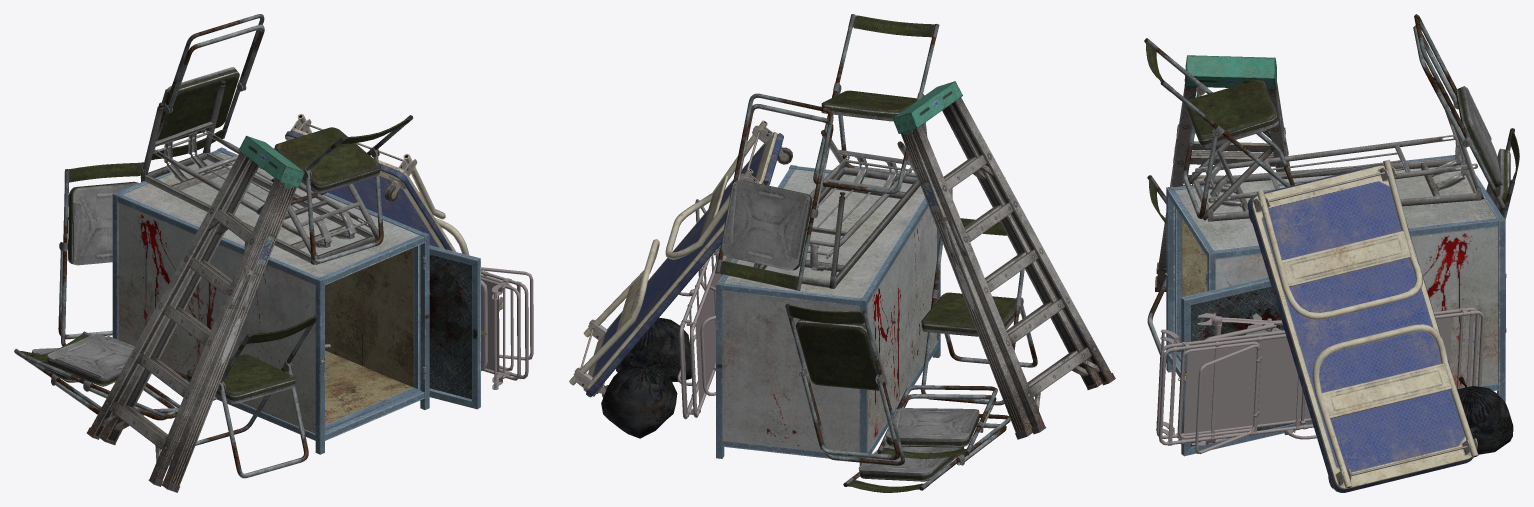
File: sm39_142_underbarricade01a.fbx
3 views of the same model, side by side, from view 1: azimuth 30°, elevation 25°; view 2: azimuth 150°, elevation 25°; view 3: azimuth 270°, elevation 25° (orthographic). The views are drawn at different scales.
Visible parts, largest first — view 1: LOD_1_Group_0_Sub_3__sm30_068_PoliceKennel01A_B_Mat, LOD_1_Group_0_Sub_1__sm30_056_FoldingChair01A_A_Mat, LOD_1_Group_0_Sub_2__sm21_027_Foldingladder01A_A_Mat, LOD_1_Group_0_Sub_4__sm30_004_FoldingTable02A_A_Mat, LOD_1_Group_1_Sub_1__sm30_068_PoliceKennel01A_B_Mat, LOD_1_Group_9_Sub_1__sm30_065_HandCart01A_A_Mat, LOD_1_Group_4_Sub_2__sm30_128_Stretcher01A_A_Mat; view 2: LOD_1_Group_0_Sub_3__sm30_068_PoliceKennel01A_B_Mat, LOD_1_Group_0_Sub_1__sm30_056_FoldingChair01A_A_Mat, LOD_1_Group_0_Sub_2__sm21_027_Foldingladder01A_A_Mat, LOD_1_Group_9_Sub_1__sm30_065_HandCart01A_A_Mat, LOD_1_Group_0_Sub_4__sm30_004_FoldingTable02A_A_Mat, LOD_1_Group_4_Sub_1__sm20_002_GarbageBags01A_A_Mat, LOD_1_Group_4_Sub_2__sm30_128_Stretcher01A_A_Mat, LOD_1_Group_8_Sub_1__sm20_002_GarbageBags01A_A_Mat; view 3: LOD_1_Group_9_Sub_1__sm30_065_HandCart01A_A_Mat, LOD_1_Group_0_Sub_3__sm30_068_PoliceKennel01A_B_Mat, LOD_1_Group_4_Sub_2__sm30_128_Stretcher01A_A_Mat, LOD_1_Group_0_Sub_1__sm30_056_FoldingChair01A_A_Mat, LOD_1_Group_0_Sub_4__sm30_004_FoldingTable02A_A_Mat, LOD_1_Group_0_Sub_2__sm21_027_Foldingladder01A_A_Mat, LOD_1_Group_1_Sub_1__sm30_068_PoliceKennel01A_B_Mat, LOD_1_Group_4_Sub_1__sm20_002_GarbageBags01A_A_Mat.
Part boxes in pixels (<box>): LOD_1_Group_0_Sub_3__sm30_068_PoliceKennel01A_B_Mat: <box>112,147,486,454</box>; LOD_1_Group_0_Sub_1__sm30_056_FoldingChair01A_A_Mat: <box>14,14,413,478</box>; LOD_1_Group_0_Sub_2__sm21_027_Foldingladder01A_A_Mat: <box>86,135,304,492</box>; LOD_1_Group_0_Sub_4__sm30_004_FoldingTable02A_A_Mat: <box>140,80,378,264</box>; LOD_1_Group_1_Sub_1__sm30_068_PoliceKennel01A_B_Mat: <box>429,254,471,399</box>; LOD_1_Group_9_Sub_1__sm30_065_HandCart01A_A_Mat: <box>285,114,502,311</box>; LOD_1_Group_4_Sub_2__sm30_128_Stretcher01A_A_Mat: <box>325,267,533,389</box>; LOD_1_Group_0_Sub_3__sm30_068_PoliceKennel01A_B_Mat: <box>716,165,940,466</box>; LOD_1_Group_0_Sub_1__sm30_056_FoldingChair01A_A_Mat: <box>715,14,1037,492</box>; LOD_1_Group_0_Sub_2__sm21_027_Foldingladder01A_A_Mat: <box>892,81,1115,439</box>; LOD_1_Group_9_Sub_1__sm30_065_HandCart01A_A_Mat: <box>569,120,792,397</box>; LOD_1_Group_0_Sub_4__sm30_004_FoldingTable02A_A_Mat: <box>753,130,920,288</box>; LOD_1_Group_4_Sub_1__sm20_002_GarbageBags01A_A_Mat: <box>601,361,677,438</box>; LOD_1_Group_4_Sub_2__sm30_128_Stretcher01A_A_Mat: <box>677,199,732,419</box>; LOD_1_Group_8_Sub_1__sm20_002_GarbageBags01A_A_Mat: <box>616,317,691,381</box>; LOD_1_Group_9_Sub_1__sm30_065_HandCart01A_A_Mat: <box>1247,159,1478,492</box>; LOD_1_Group_0_Sub_3__sm30_068_PoliceKennel01A_B_Mat: <box>1165,155,1505,456</box>; LOD_1_Group_4_Sub_2__sm30_128_Stretcher01A_A_Mat: <box>1156,307,1484,454</box>; LOD_1_Group_0_Sub_1__sm30_056_FoldingChair01A_A_Mat: <box>1144,14,1519,362</box>; LOD_1_Group_0_Sub_4__sm30_004_FoldingTable02A_A_Mat: <box>1188,77,1483,221</box>; LOD_1_Group_0_Sub_2__sm21_027_Foldingladder01A_A_Mat: <box>1155,55,1290,291</box>; LOD_1_Group_1_Sub_1__sm30_068_PoliceKennel01A_B_Mat: <box>1190,286,1293,446</box>; LOD_1_Group_4_Sub_1__sm20_002_GarbageBags01A_A_Mat: <box>1457,376,1513,454</box>.
Bounding box in the file's own units: 3.56 × 2.62 × 2.5.
